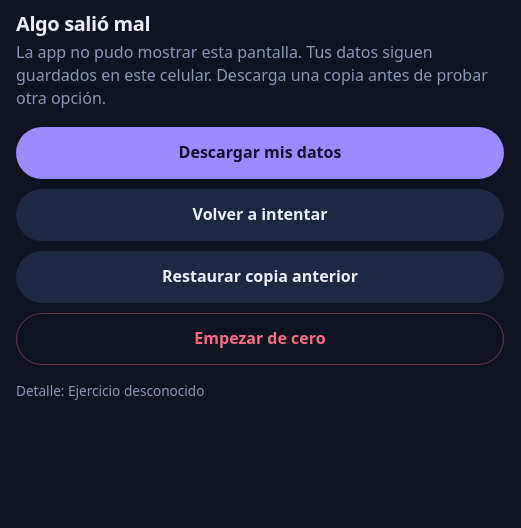
Test: ErrorBoundary › offers the previous copy when there is one, and asks before resetting
Click the button "Empezar de cero" at (260, 339), box left=16, top=313, right=504, bottom=365
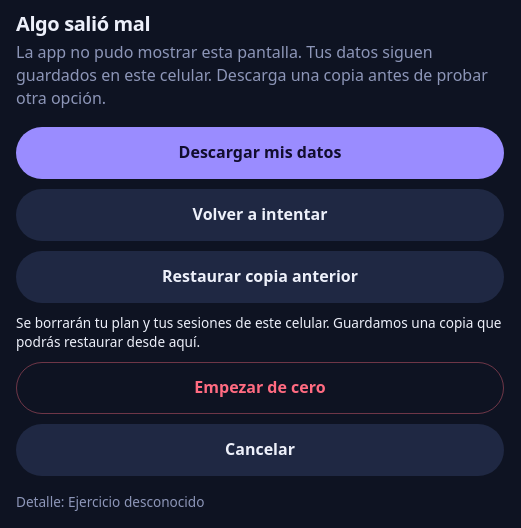
Now the text "Se borrarán tu plan y tus sesiones" is shown, box left=16, top=313, right=502, bottom=351
